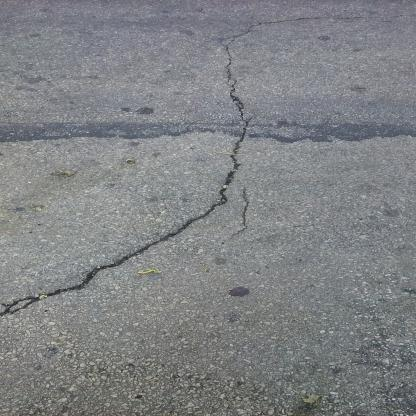Cracks: (0, 8, 382, 318)
